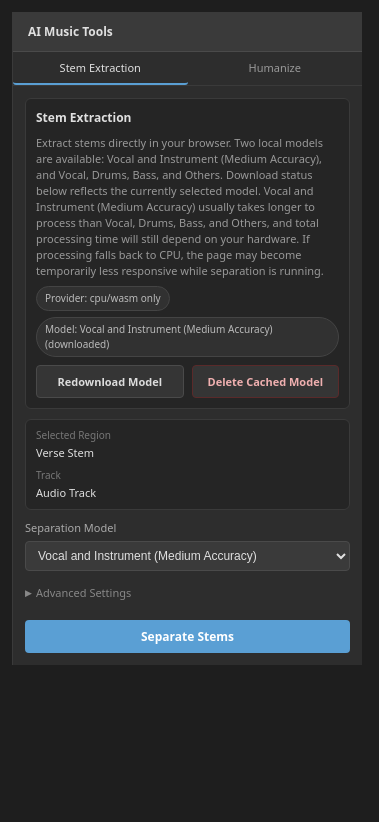
Test: KGOnePanel browser stem extraction › renders local separation outputs after processing completes
Click the button "Separate Stems" at (188, 636), box [25,620,350,653]
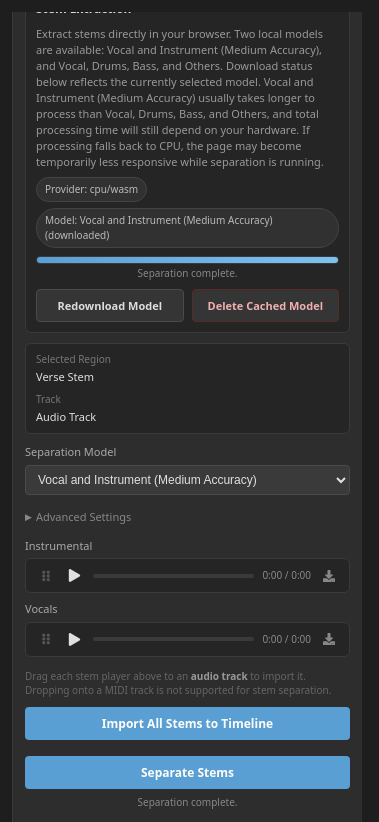
Expected: the text "Instrumental" is shown, [25,538,92,553]
Expected: the text "Vocals" is shown, [25,601,58,616]
Expected: the button "Import All Stems to Timeline" is shown, [25,707,350,740]
